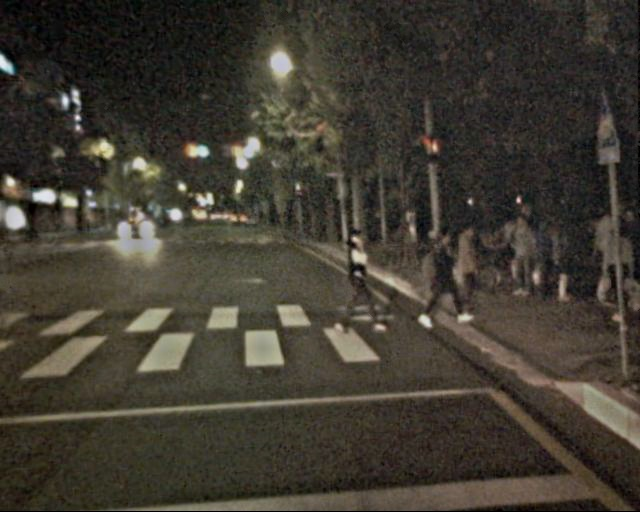person: (336, 226, 382, 339), (419, 227, 462, 332), (499, 208, 544, 302), (599, 223, 640, 325), (587, 203, 626, 299), (449, 225, 486, 315), (540, 215, 577, 305)
